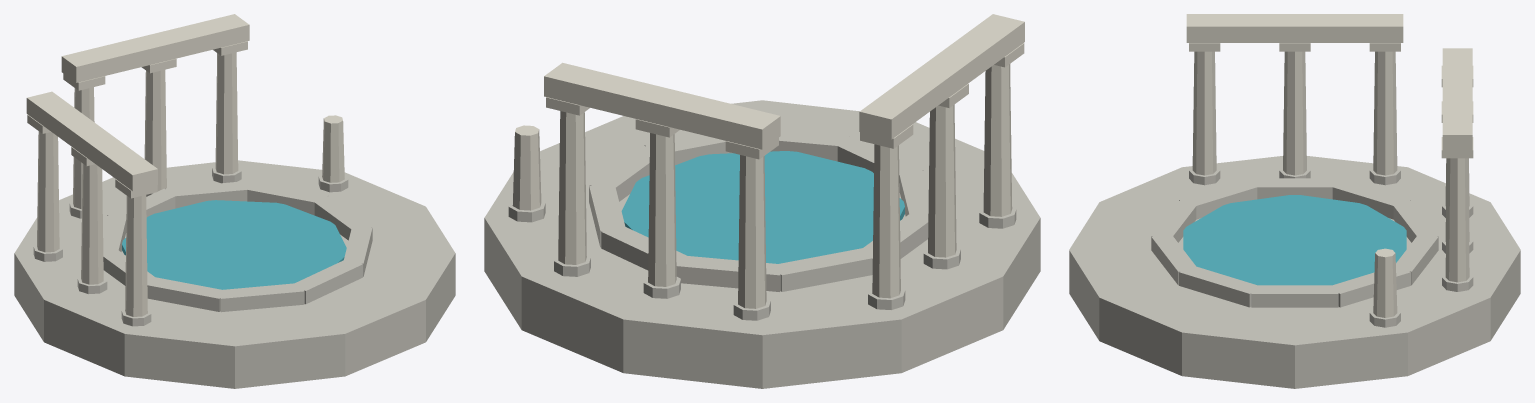
The model's file is onsen.glb.
3 views of the same model, side by side, from view 1: azimuth 30°, elevation 25°; view 2: azimuth 150°, elevation 25°; view 3: azimuth 270°, elevation 25° (orthographic). The views are drawn at different scales.
Parts seen in each view (by area): view 1: onsen; view 2: onsen; view 3: onsen.
Part boxes in pixels (x1,y1,x2,y2): onsen: (14, 14, 455, 388); onsen: (484, 14, 1040, 388); onsen: (1069, 14, 1520, 388).
Bounding box in the file's own units: 15 × 7.4 × 15.
